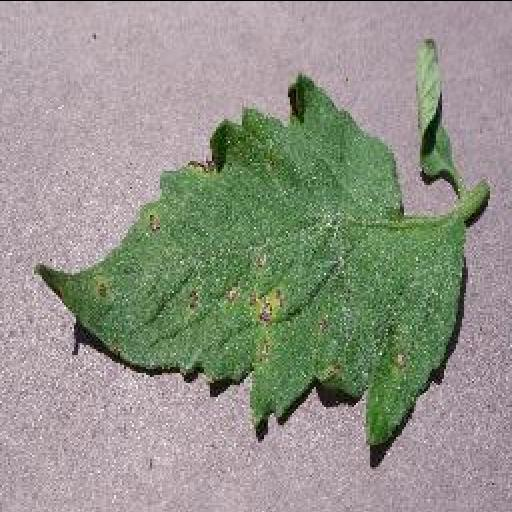disease_tomato: (34, 74, 466, 456)
